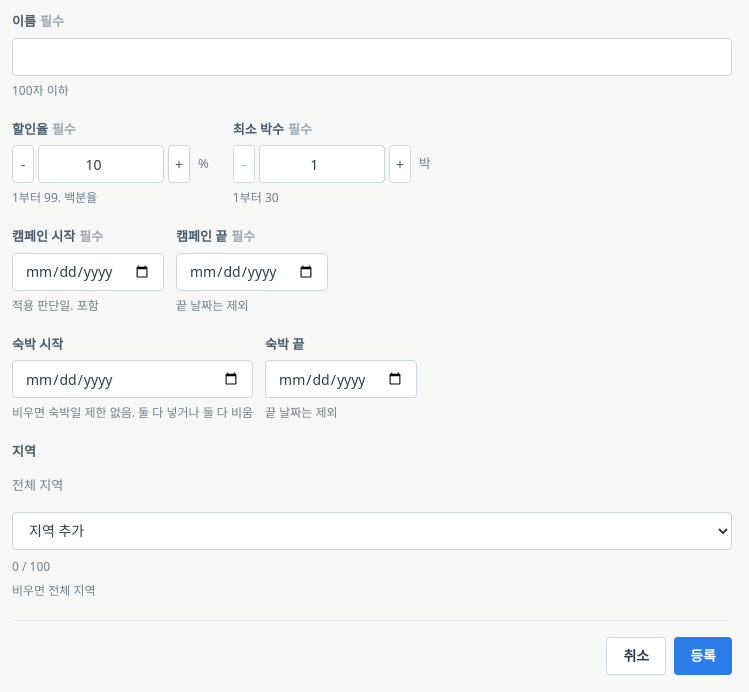
Test: W08의 O2 몫. 화면 검사가 서버보다 먼저 › 빈 폼 제출은 필수 넷의 문구이고 요청이 없다
This screenshot has width=749, height=692.
Click the button "등록": [703, 656] box [674,636,732,674]
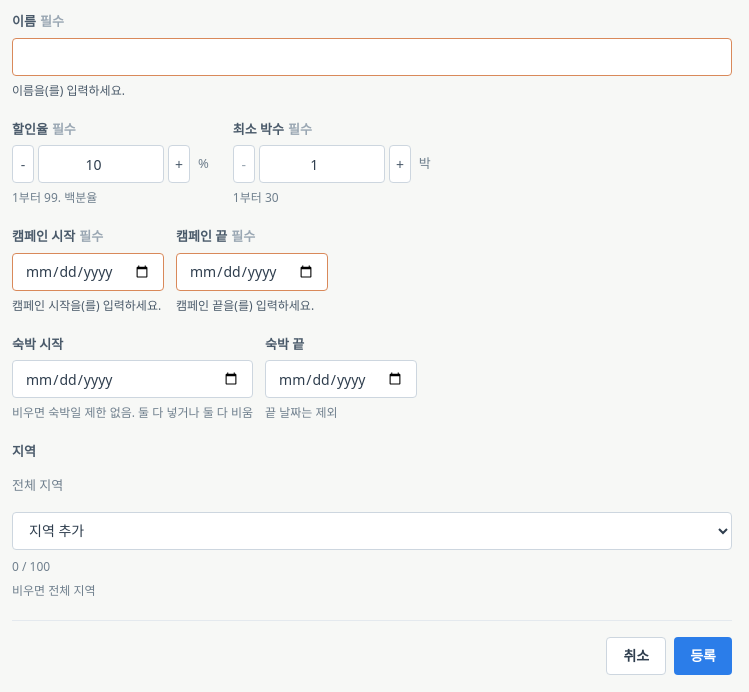
Check: the text "이름을(를) 입력하세요." is shown, box [12,82,125,98]
Check: the text "캠페인 시작을(를) 입력하세요." is shown, box [12,296,164,314]
Check: the text "캠페인 끝을(를) 입력하세요." is shown, box [176,296,328,314]
